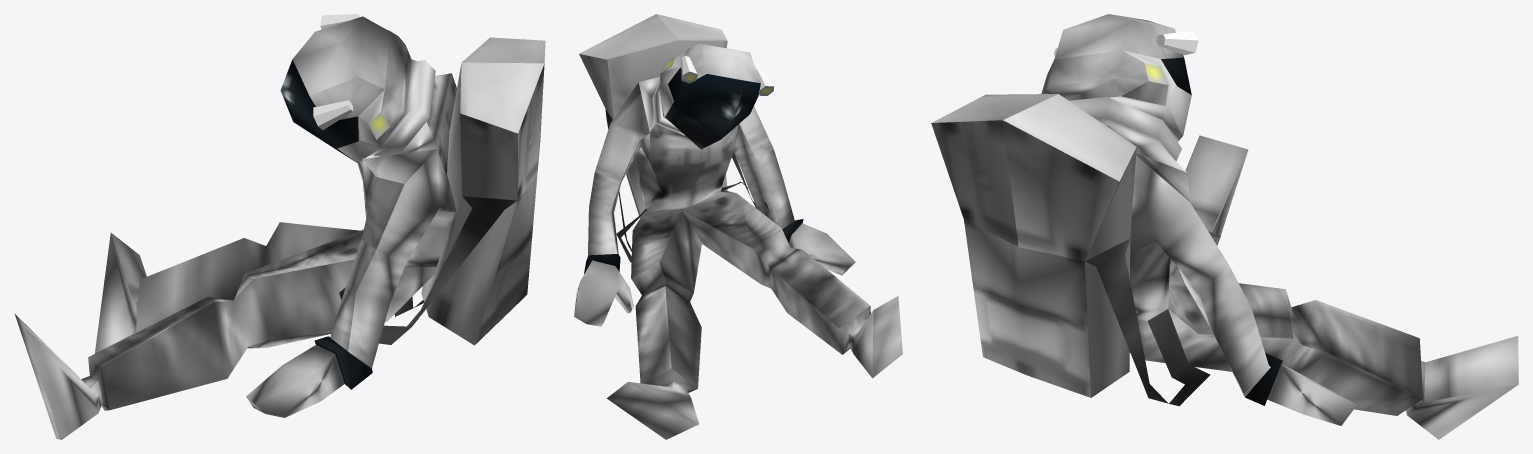
File: DeadAstro1.fbx
3 views of the same model, side by side, from view 1: azimuth 30°, elevation 25°; view 2: azimuth 150°, elevation 25°; view 3: azimuth 270°, elevation 25° (orthographic). The views are drawn at different scales.
Visible parts, largest first — view 1: SpaceMan_Sketchfab; view 2: SpaceMan_Sketchfab; view 3: SpaceMan_Sketchfab.
Part boxes in pixels (x1,y1,x2,y2): SpaceMan_Sketchfab: (15,14,545,439); SpaceMan_Sketchfab: (574,14,902,439); SpaceMan_Sketchfab: (931,14,1518,439).
Bounding box in the file's own units: 9.65 × 8.19 × 9.31.
